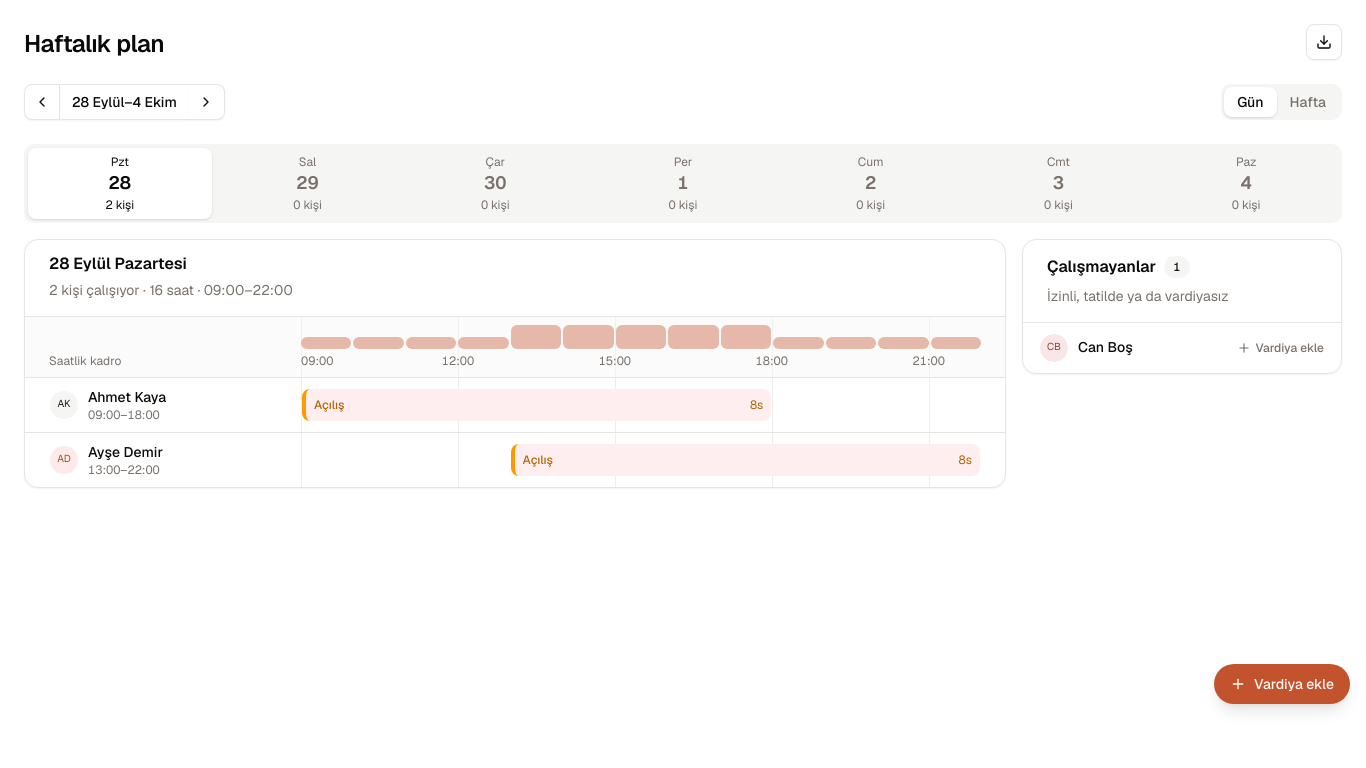
WeeklySchedulePage — mobil › varsayılan gün görünümü: seçili günün vardiyaları saat sırasıyla, çalışmayanlar ayrı
Expected: the text "2 kişi çalışıyor" is shown, [49,280,293,298]
Expected: the text "Çalışmayanlar" reads "Çalışmayanlar 1", [1047,256,1190,278]
// Başka güne geçiş
Click the button with aria-label "29 Eylül Salı". click: (308, 183)
box: [216,148,399,218]
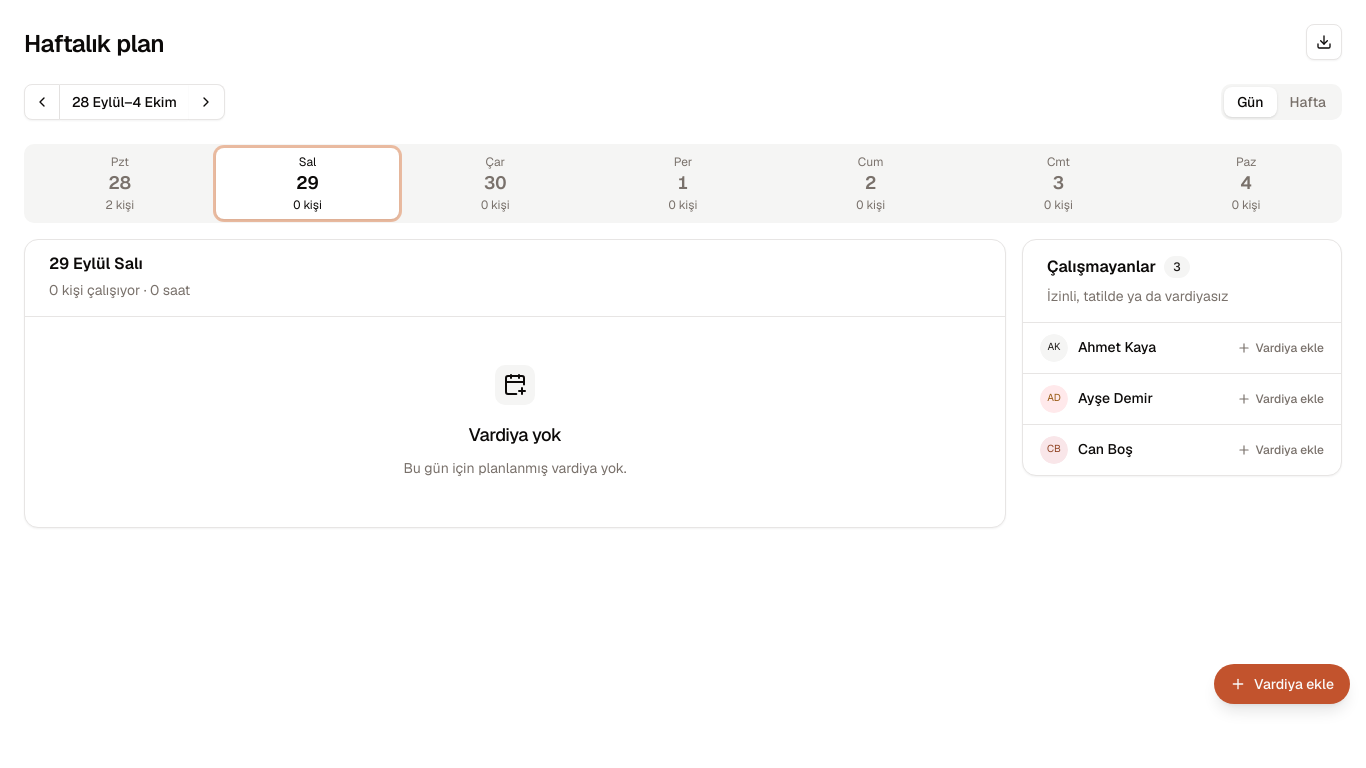
Expected: the text "Bu gün için planlanmış vardiya yok." is shown, [403,456,627,479]
